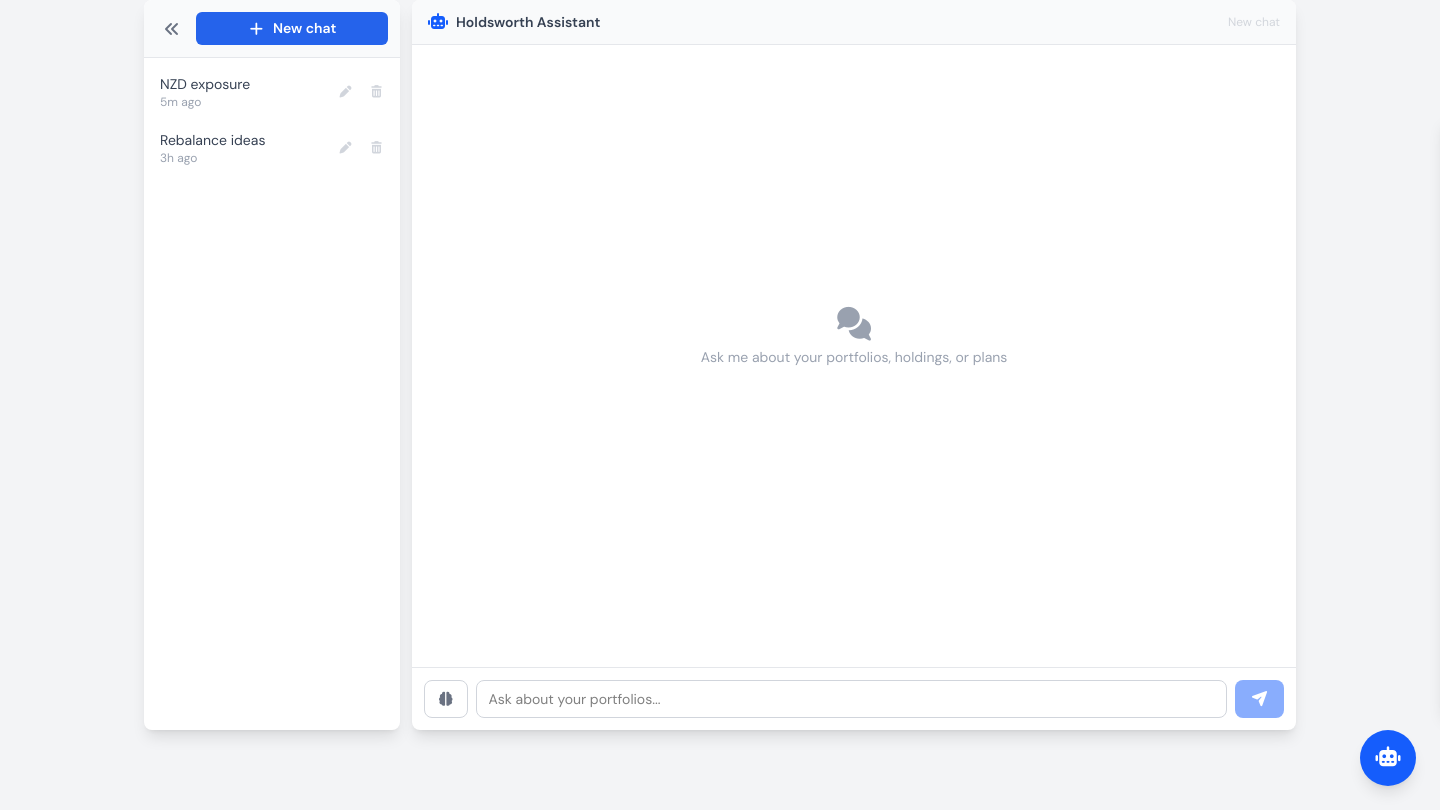
/chat page › shares one conversation with the Chat FAB
This screenshot has width=1440, height=810.
(page scrolled)
Expected: the text "NZD exposure" is shown, x1=160 y1=75 x2=250 y2=93
Click the button named "Chat": point(1388, 758) x1=1360 y1=730 x2=1416 y2=786
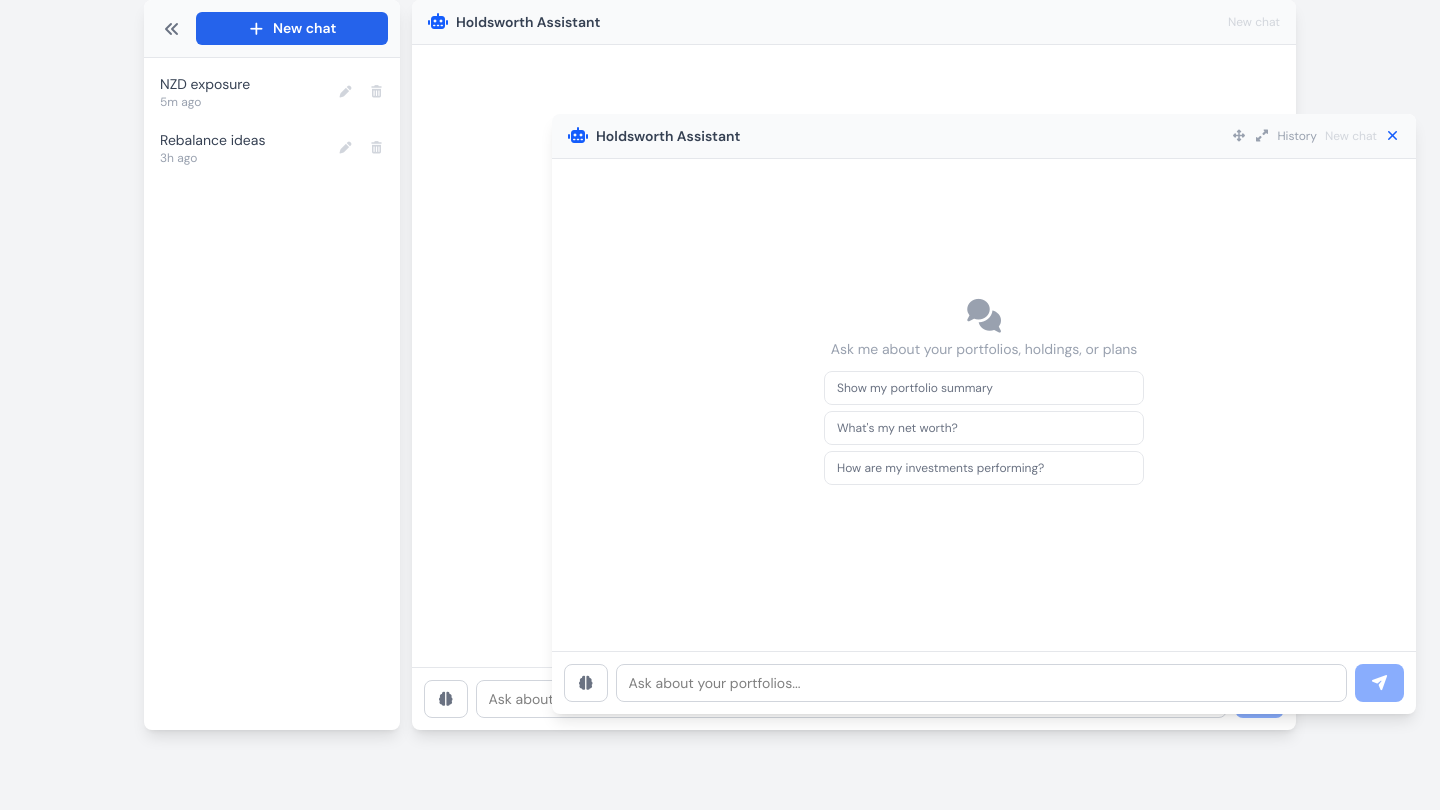
In the field: point(981, 683) x1=616 y1=664 x2=1346 y2=702, type "Asked in the FAB"
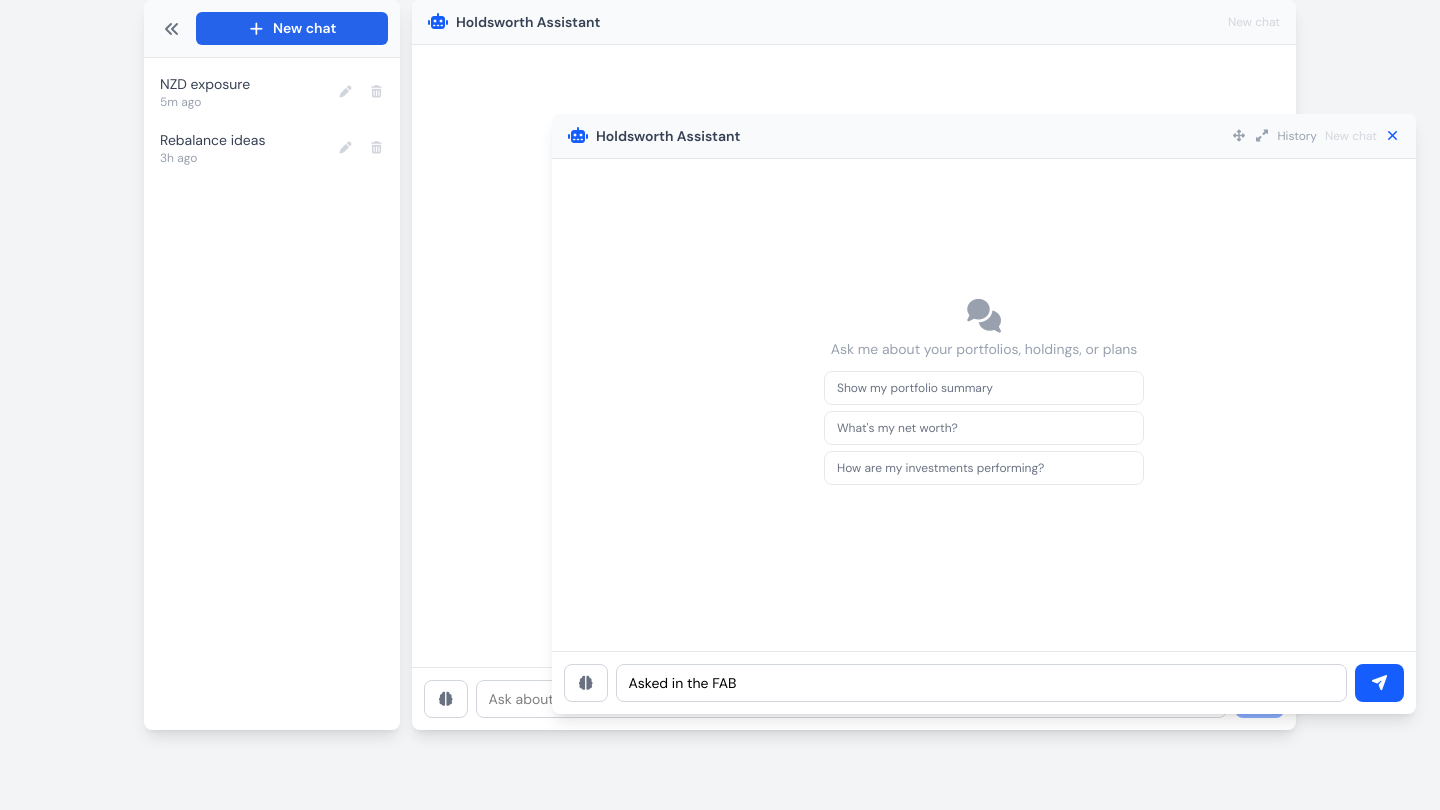
Submit the form, box x1=552 y1=651 x2=1416 y2=714
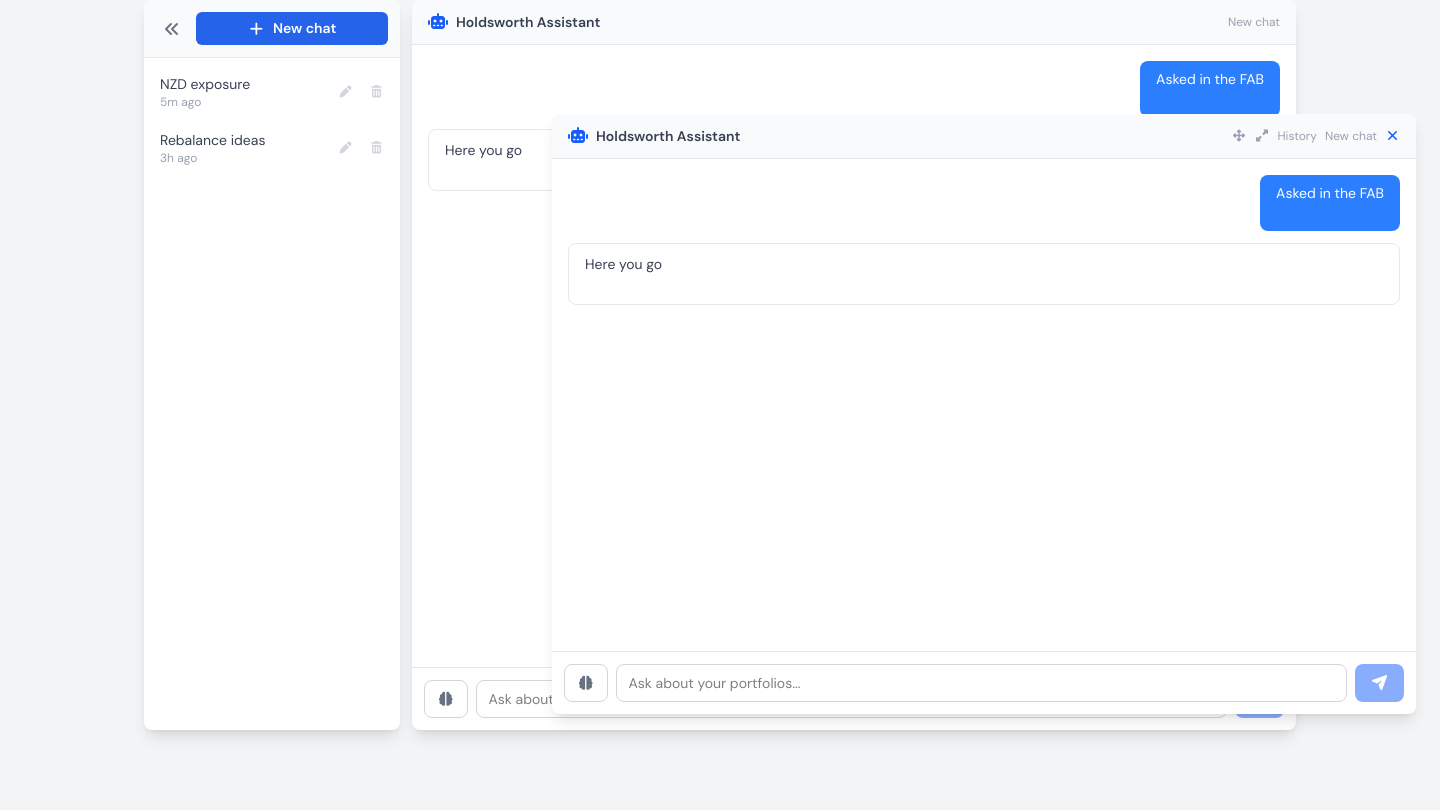
Result: the text "Asked in the FAB" is shown 2 times at x1=1260 y1=175 x2=1400 y2=231; x1=1140 y1=61 x2=1280 y2=117
Result: the text "Here you go" is shown 2 times at x1=585 y1=255 x2=662 y2=273; x1=445 y1=141 x2=522 y2=159
